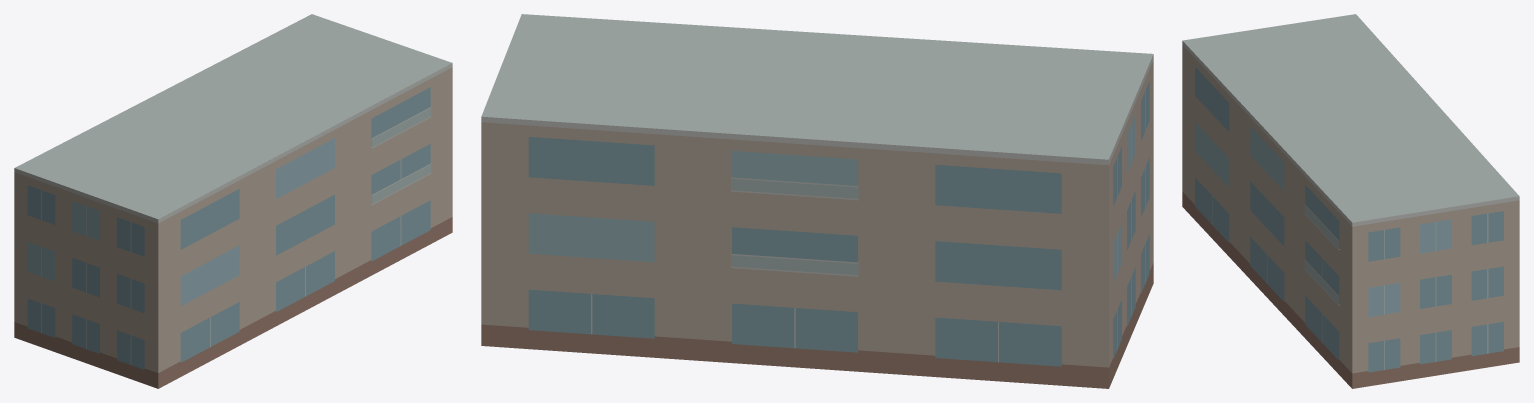
File: survey-upis-32844174.glb
The picture shows the model from 3 angles, left to right: view 1: azimuth 30°, elevation 25°; view 2: azimuth 150°, elevation 25°; view 3: azimuth 270°, elevation 25°; orthographic projection. The views are drawn at different scales.
Parts seen in each view (by area): view 1: survey-upis-32844174.tmp; view 2: survey-upis-32844174.tmp; view 3: survey-upis-32844174.tmp.
Part boxes in pixels (left/top/right/bottom): survey-upis-32844174.tmp: left=14, top=14, right=452, bottom=388; survey-upis-32844174.tmp: left=481, top=14, right=1153, bottom=388; survey-upis-32844174.tmp: left=1182, top=14, right=1519, bottom=388.
Size of the model in its own units: 27.21 by 10.1 by 18.58.
